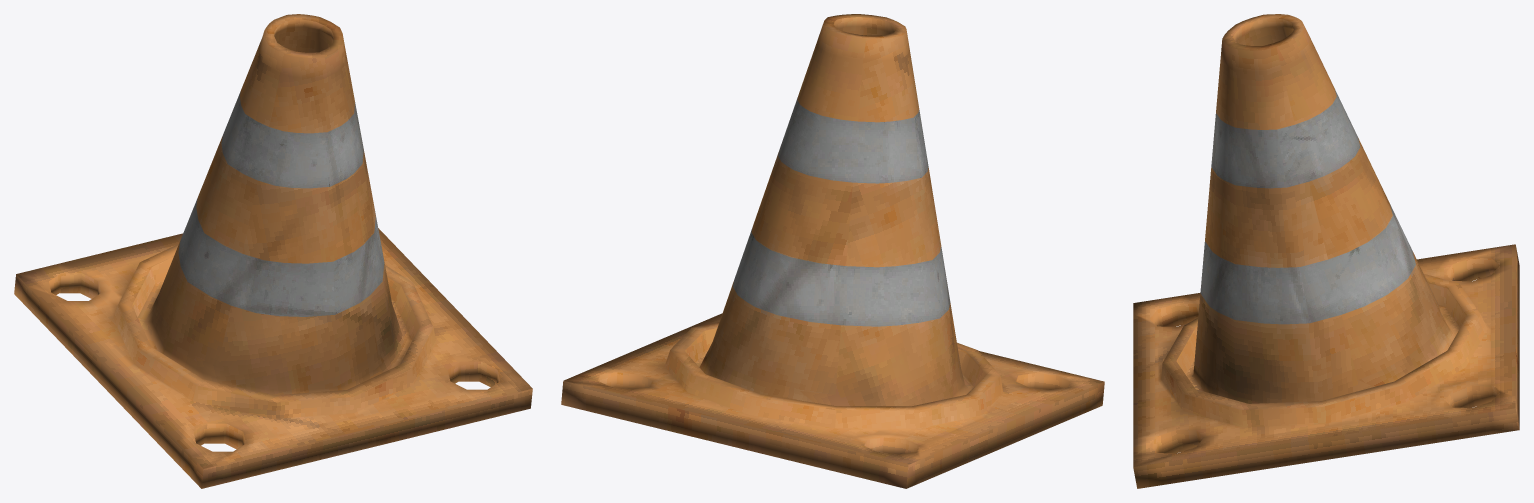
File: traffic_cone.glb
The picture shows the model from 3 angles, left to right: view 1: azimuth 30°, elevation 25°; view 2: azimuth 150°, elevation 25°; view 3: azimuth 270°, elevation 25°; orthographic projection. The views are drawn at different scales.
Visible parts, largest first — view 1: cosmetic_traffic cone; view 2: cosmetic_traffic cone; view 3: cosmetic_traffic cone.
Part boxes in pixels (bbox=[...]): cosmetic_traffic cone: bbox=[14, 14, 532, 488]; cosmetic_traffic cone: bbox=[561, 14, 1104, 488]; cosmetic_traffic cone: bbox=[1133, 14, 1519, 488].
Size of the model in its own units: 0.8092 by 0.8764 by 0.8063.
Materials: 1 (1 with a texture image).
